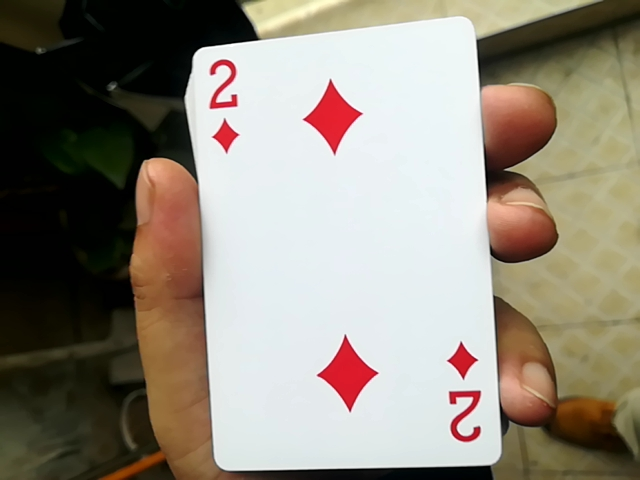fk 2: (173, 10, 497, 467)
